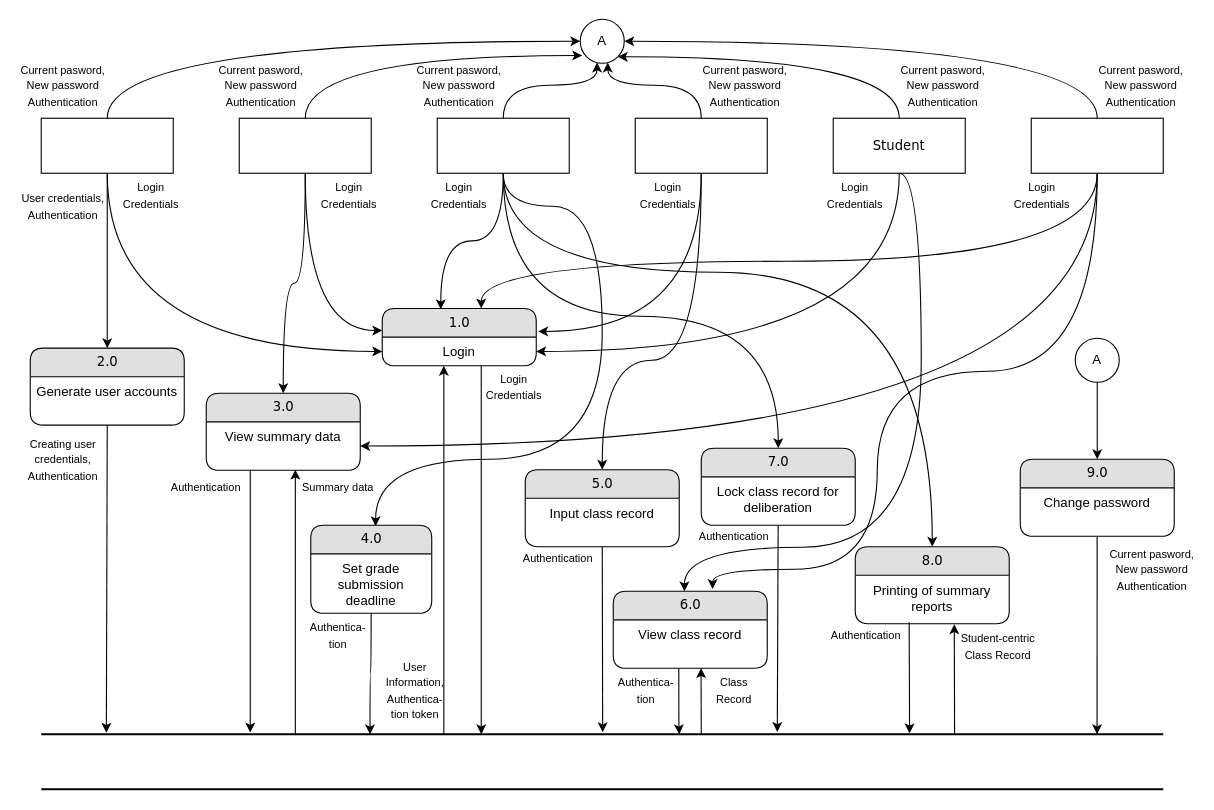
This 1214x810 diagram has some shape labels left out. Here are the shapes that lost their labels. From the top down, the centre of each, then its label:
At pixel 106 145: "System Administrator".
At pixel 304 145: "Director".
At pixel 502 145: "Registrar".
At pixel 700 145: "Teacher".
At pixel 1096 145: "Parent".
At pixel 602 761: "DHLA Grade Management System Database".
